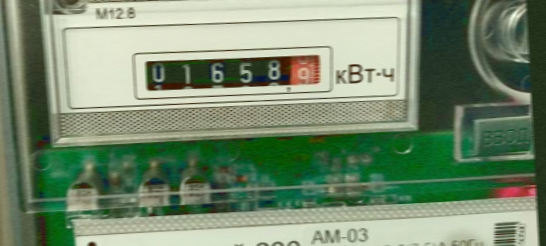0: (151, 60, 165, 83)
1: (181, 62, 192, 85)
5: (238, 60, 253, 83)
6: (209, 60, 224, 83)
8: (266, 57, 281, 80)
9: (294, 65, 309, 86)
screen: (126, 36, 341, 107)
